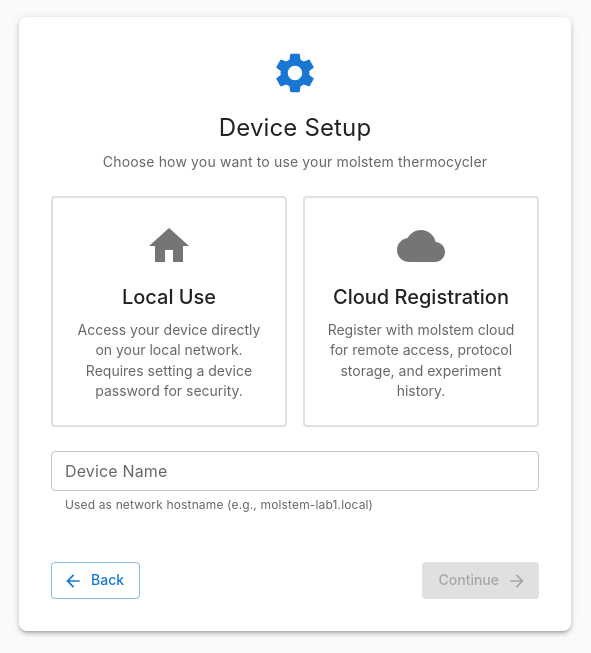
Test: SetupModePage › enables Continue button when cloud mode form is valid
Note: Select Cloud mode
Click the heading "Cloud Registration": (421, 298) left=321, top=282, right=521, bottom=314
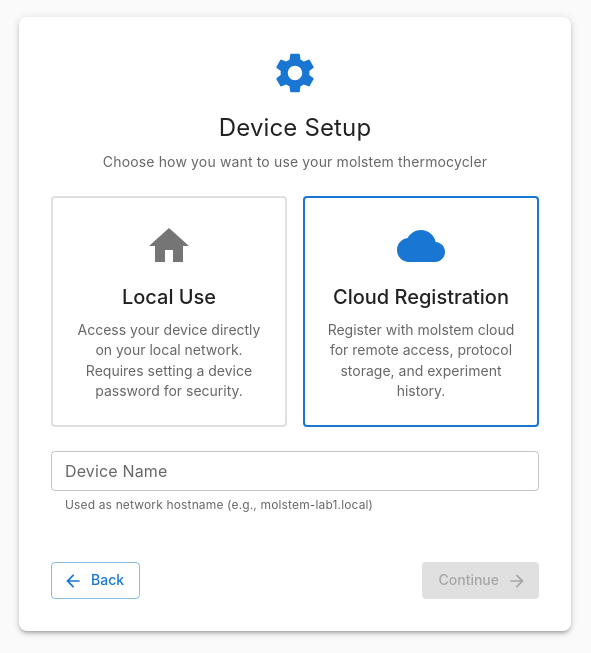
Note: Enter device name
In the field labelled "Device Name": (295, 470) left=51, top=450, right=539, bottom=490, type "mydevice"
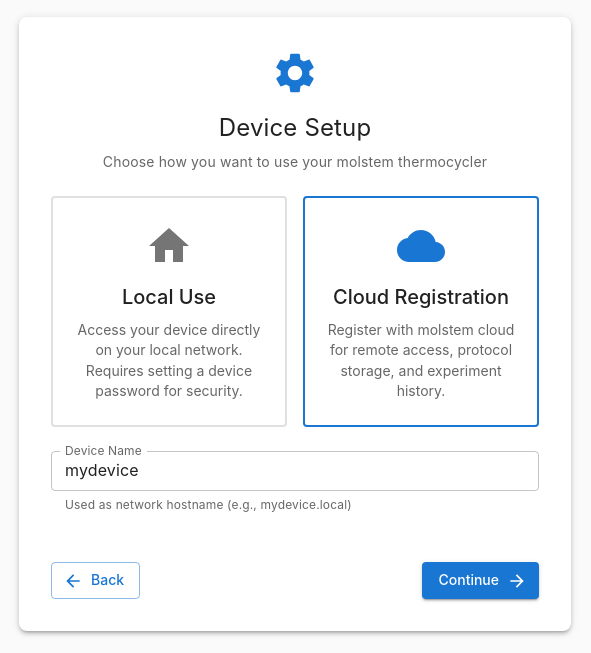
Expected: the button "Continue" is enabled, left=422, top=562, right=539, bottom=599
